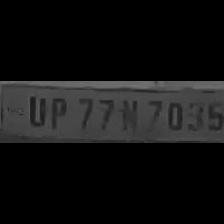0: (162, 98, 184, 132)
3: (184, 96, 204, 132)
5: (203, 96, 221, 132)
7: (72, 94, 96, 130), (94, 95, 116, 131), (140, 96, 162, 132)
N: (114, 96, 138, 132)
P: (44, 94, 70, 130)
U: (22, 94, 48, 128)
